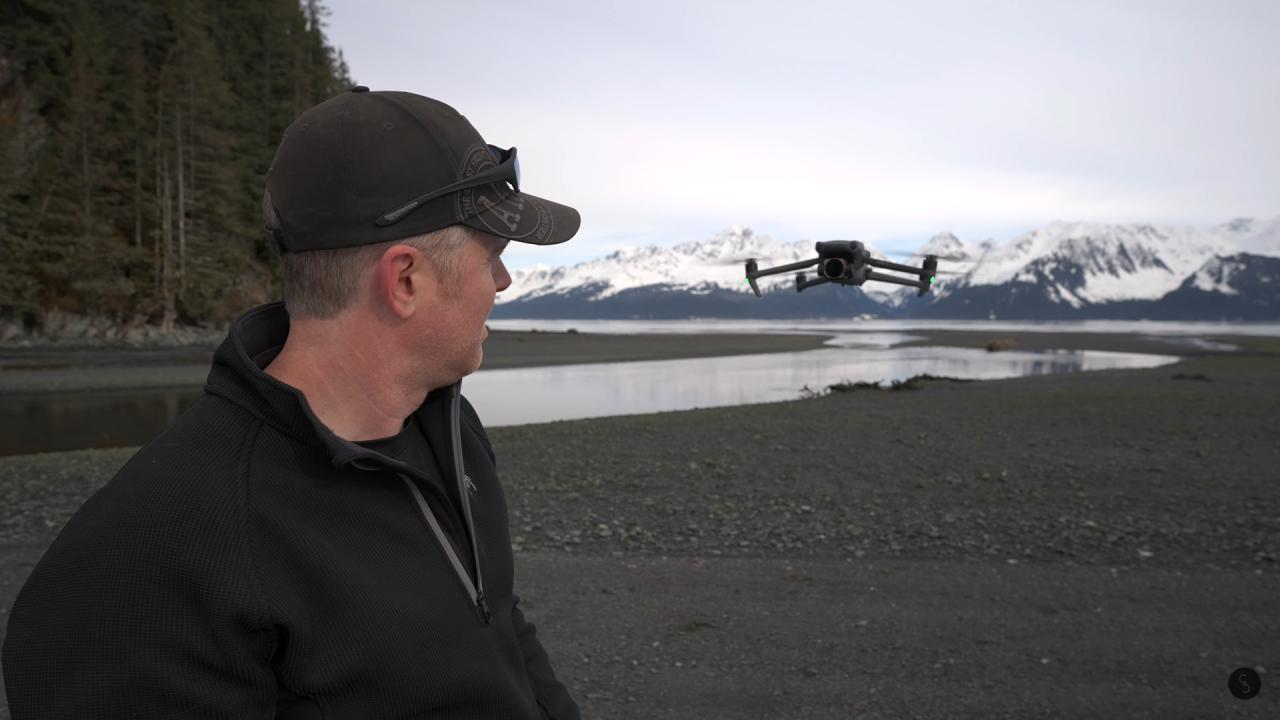Drone: (705, 219, 982, 315)
